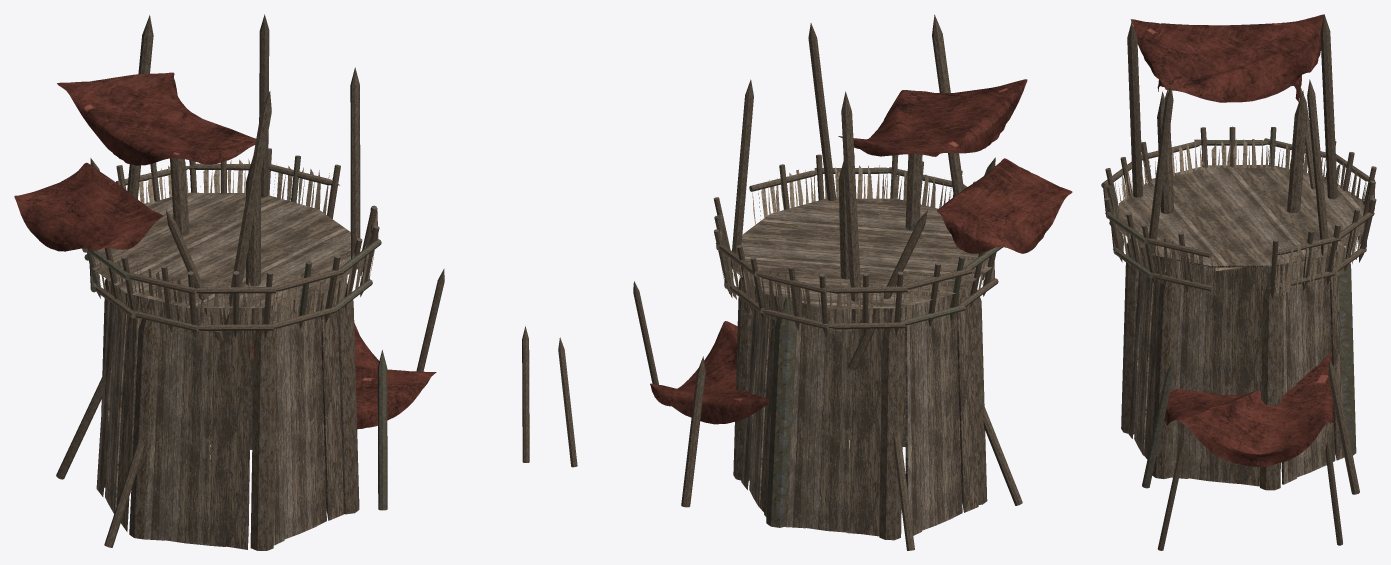
The model's file is torre_vigia.glb.
3 renders of one model, left to right at view 1: azimuth 30°, elevation 25°; view 2: azimuth 150°, elevation 25°; view 3: azimuth 270°, elevation 25°, orthographic. The views are drawn at different scales.
Parts seen in each view (by area): view 1: torre_vigia; view 2: torre_vigia; view 3: torre_vigia.
Boxes of the visible parts, box(x1,y1,x2,y2) form: torre_vigia: box(14, 14, 529, 550); torre_vigia: box(558, 14, 1072, 550); torre_vigia: box(1101, 14, 1376, 550).
Size of the model in its own units: 8.18 by 7.9 by 4.77.
5 materials, 5 textured.
